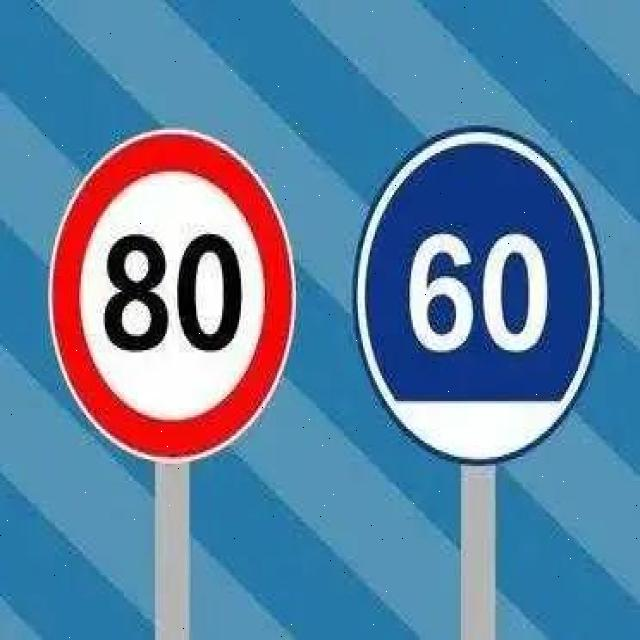speed limit 60: (350, 125, 604, 467)
speed limit 80: (46, 125, 298, 463)
